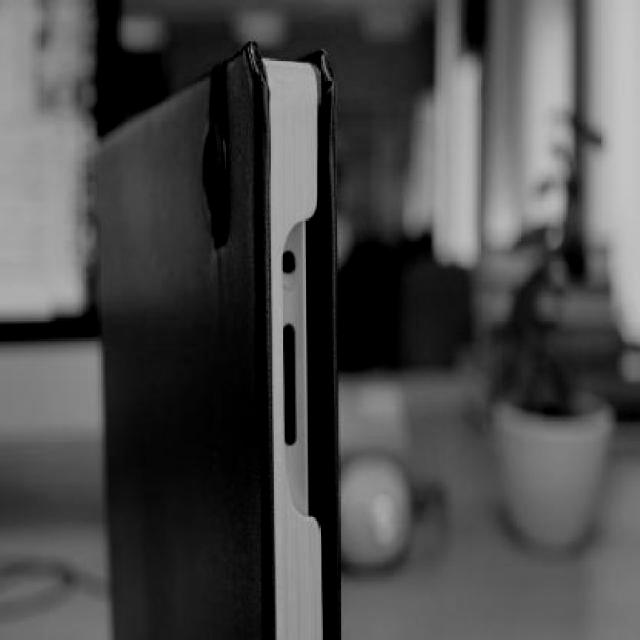fake: (96, 40, 342, 640)
